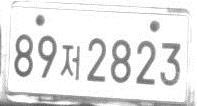2: (135, 39, 156, 85), (86, 37, 107, 82)
3: (159, 41, 180, 86)
8: (110, 38, 131, 82), (14, 33, 34, 78)
9: (37, 35, 58, 79)
저: (59, 43, 81, 80)
